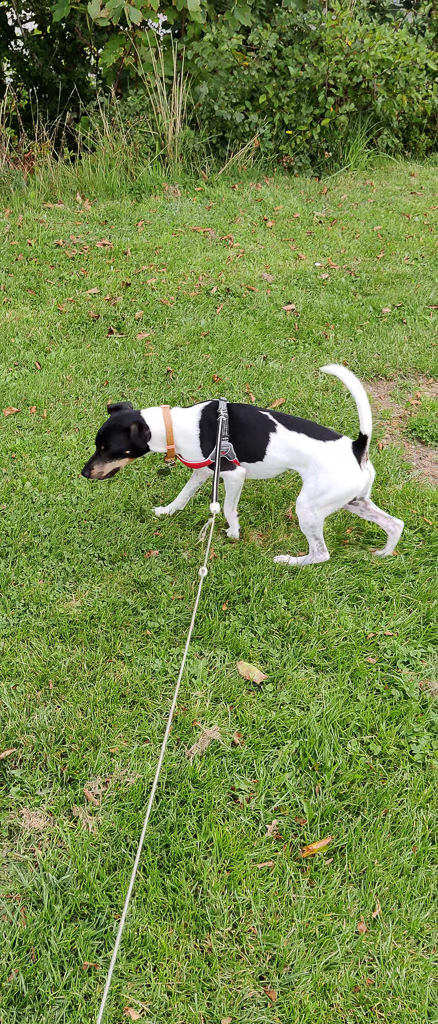Dog: (69, 345, 413, 575)
